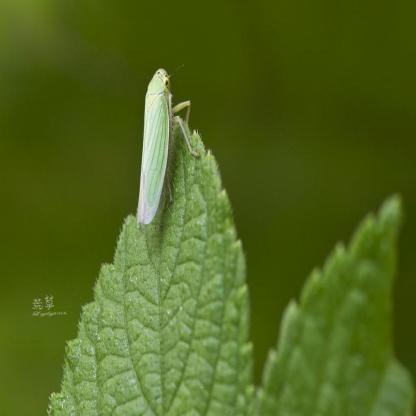green-leafhopper: (134, 64, 198, 231)
